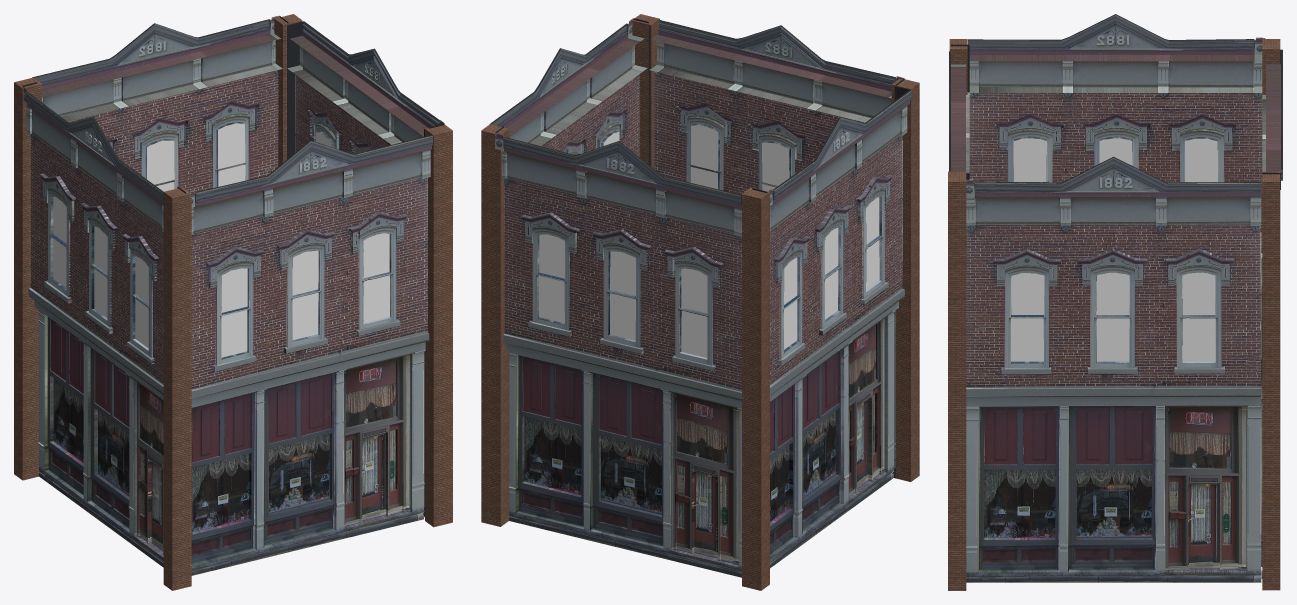
The model's file is restaurant.glb.
3 views of the same model, side by side, from view 1: azimuth 30°, elevation 25°; view 2: azimuth 150°, elevation 25°; view 3: azimuth 270°, elevation 25° (orthographic). The views are drawn at different scales.
Visible parts, largest first — view 1: dillingers_0_scale.003_3, dillingers_0_scale.002_2, dillingers_0_scale.001_1, dillingers_0_scale_0, Cube.002_6, Cube_4, Cube.003_7, Cube.001_5; view 2: dillingers_0_scale.001_1, dillingers_0_scale.002_2, dillingers_0_scale.003_3, dillingers_0_scale_0, Cube.003_7, Cube.001_5, Cube.002_6, Cube_4; view 3: dillingers_0_scale_0, dillingers_0_scale.002_2, Cube_4, Cube.001_5, dillingers_0_scale.001_1, dillingers_0_scale.003_3, Cube.003_7, Cube.002_6.
Boxes of the visible parts, left/top/right/bottom form: dillingers_0_scale.003_3: left=177, top=129, right=432, bottom=575; dillingers_0_scale.002_2: left=22, top=82, right=163, bottom=567; dillingers_0_scale.001_1: left=32, top=15, right=288, bottom=192; dillingers_0_scale_0: left=287, top=21, right=444, bottom=516; Cube.002_6: left=163, top=187, right=191, bottom=590; Cube_4: left=425, top=125, right=452, bottom=527; Cube.003_7: left=14, top=77, right=41, bottom=480; Cube.001_5: left=274, top=14, right=302, bottom=166; dillingers_0_scale.001_1: left=495, top=126, right=741, bottom=577; dillingers_0_scale.002_2: left=752, top=86, right=911, bottom=568; dillingers_0_scale.003_3: left=649, top=20, right=904, bottom=478; dillingers_0_scale_0: left=489, top=18, right=648, bottom=156; Cube.003_7: left=742, top=187, right=769, bottom=590; Cube.001_5: left=481, top=124, right=509, bottom=526; Cube.002_6: left=891, top=78, right=919, bottom=481; Cube_4: left=632, top=14, right=659, bottom=168; dillingers_0_scale_0: left=964, top=156, right=1261, bottom=582; dillingers_0_scale.002_2: left=968, top=14, right=1265, bottom=285; Cube_4: left=948, top=171, right=966, bottom=590; Cube.001_5: left=1262, top=171, right=1280, bottom=590; dillingers_0_scale.001_1: left=1261, top=49, right=1282, bottom=578; dillingers_0_scale.003_3: left=949, top=44, right=969, bottom=179; Cube.003_7: left=1262, top=39, right=1280, bottom=94; Cube.002_6: left=949, top=39, right=967, bottom=94.
Size of the model in its own units: 1.33 by 1.88 by 1.32.
3 materials, 2 textured.
